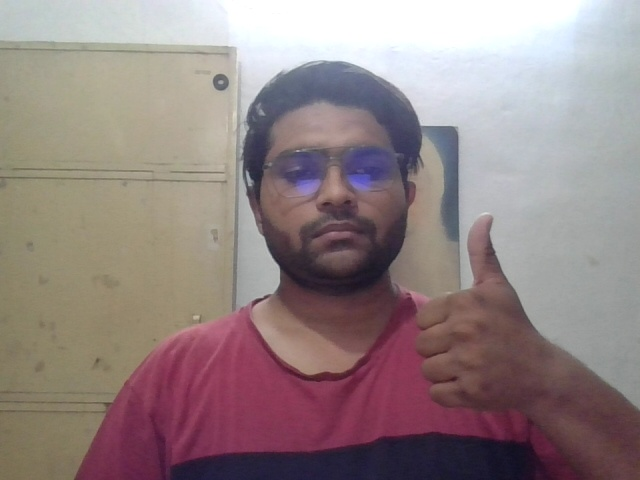ThumbsUp: (408, 206, 531, 413)
